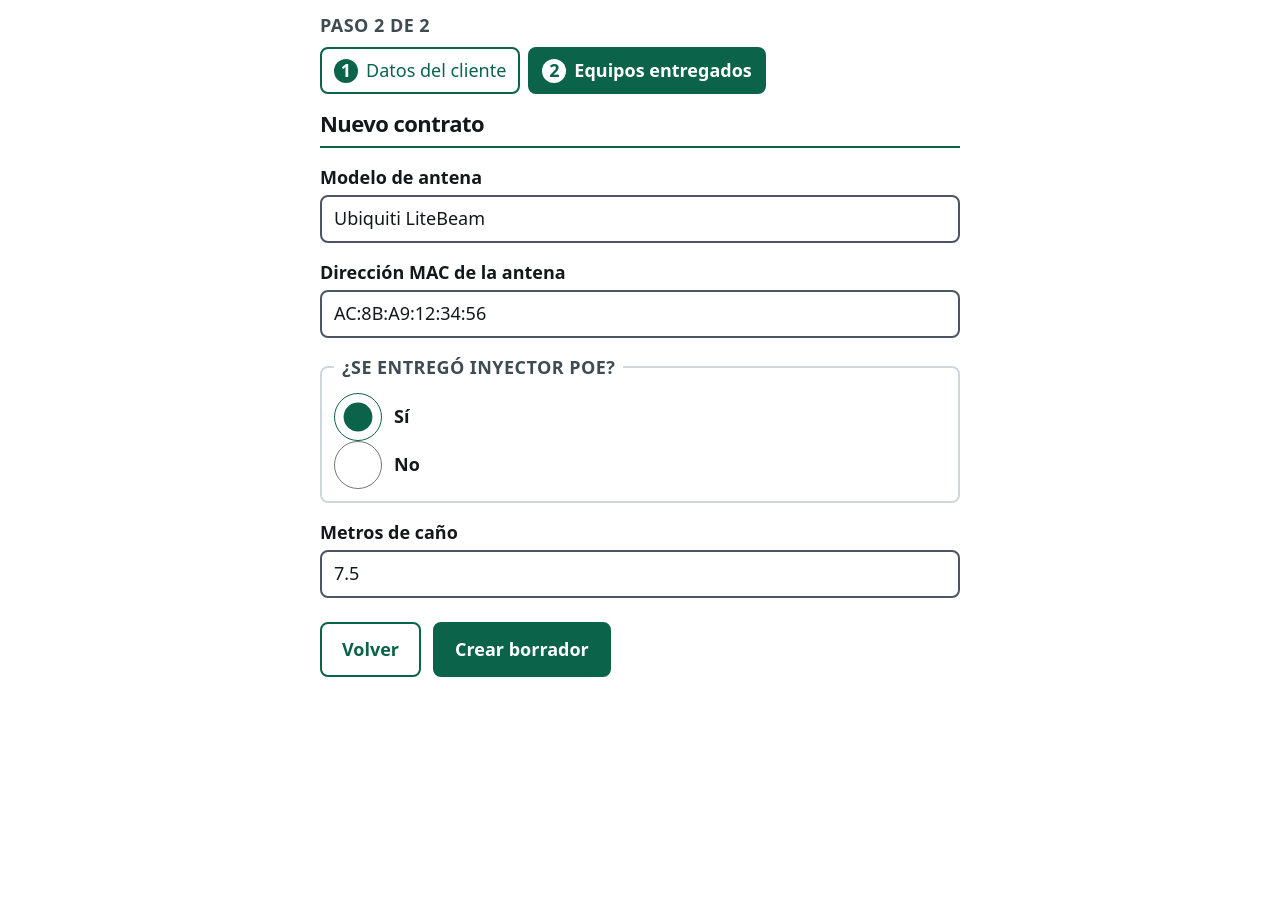
Test: FormularioBorrador › keeps the local draft after creation, now carrying the real contratoId — the resume mechanism this task adds (task 20.1)
Click the button "Crear borrador" at (522, 649), box [433,622,611,676]
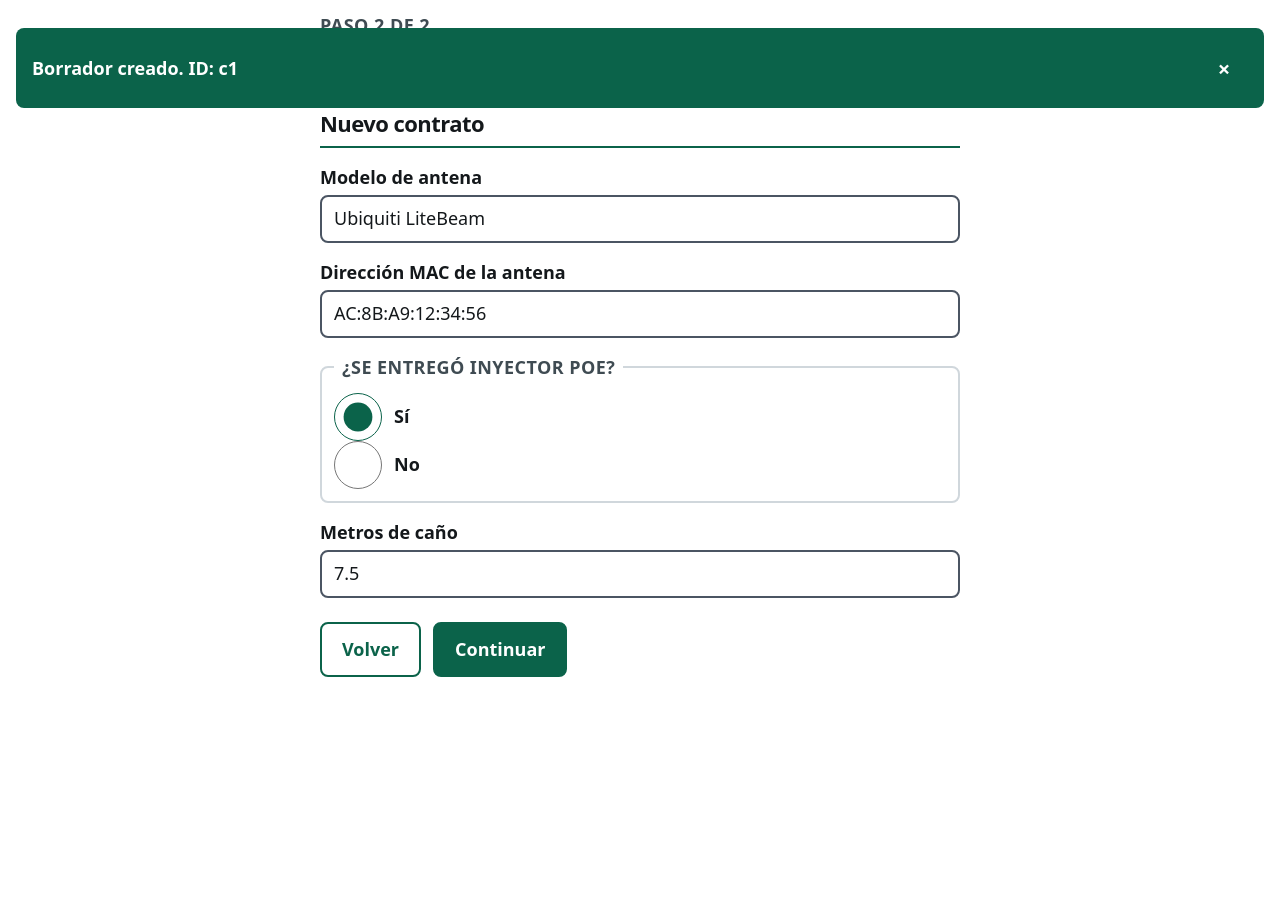
Result: the text "Borrador creado. ID: c1" is shown at [32,54,238,82]
